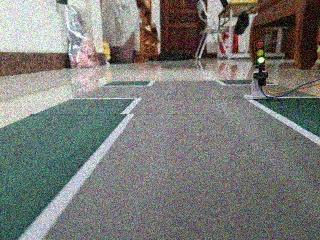green: (247, 35, 274, 71)
